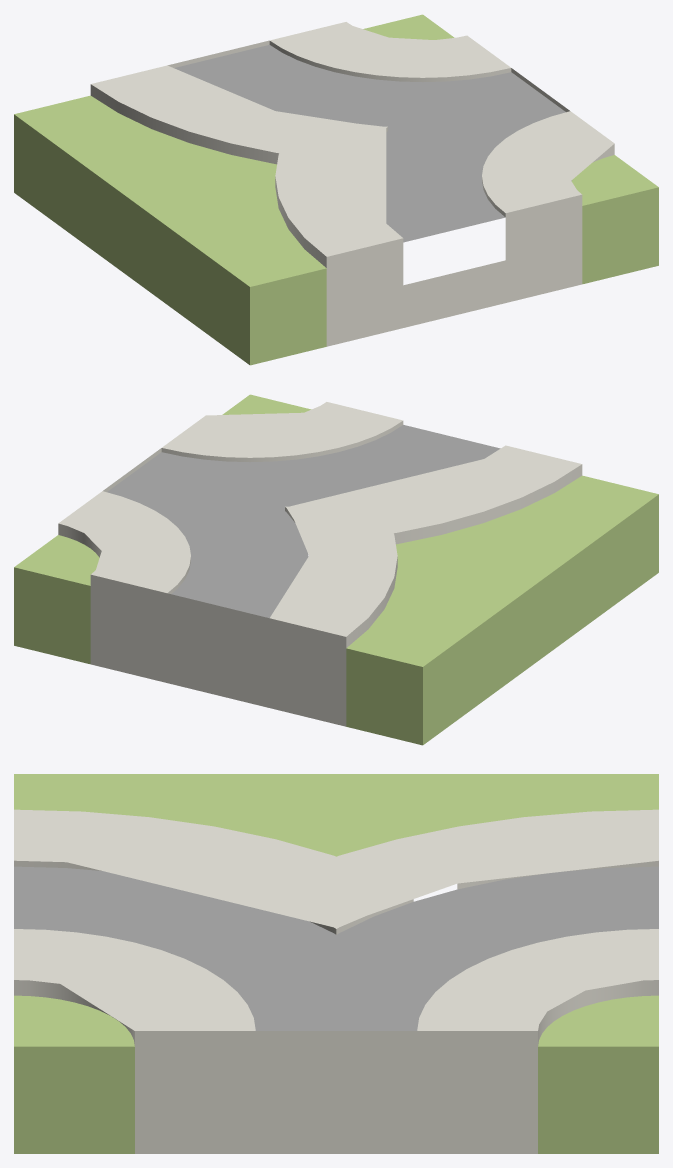
File: kenney-3d-road-tiles-roadtile-148.glb
3 views of the same model, one above another, from view 1: azimuth 30°, elevation 25°; view 2: azimuth 150°, elevation 25°; view 3: azimuth 270°, elevation 25° (orthographic). The views are drawn at different scales.
Parts seen in each view (by area): view 1: Mesh1 Group1 Model; view 2: Mesh1 Group1 Model; view 3: Mesh1 Group1 Model.
Boxes of the visible parts, x1,y1,x2,y2 form: Mesh1 Group1 Model: [14, 14, 658, 365]; Mesh1 Group1 Model: [14, 394, 658, 745]; Mesh1 Group1 Model: [14, 774, 658, 1153].
Size of the model in its own units: 3 by 0.6299 by 3.
